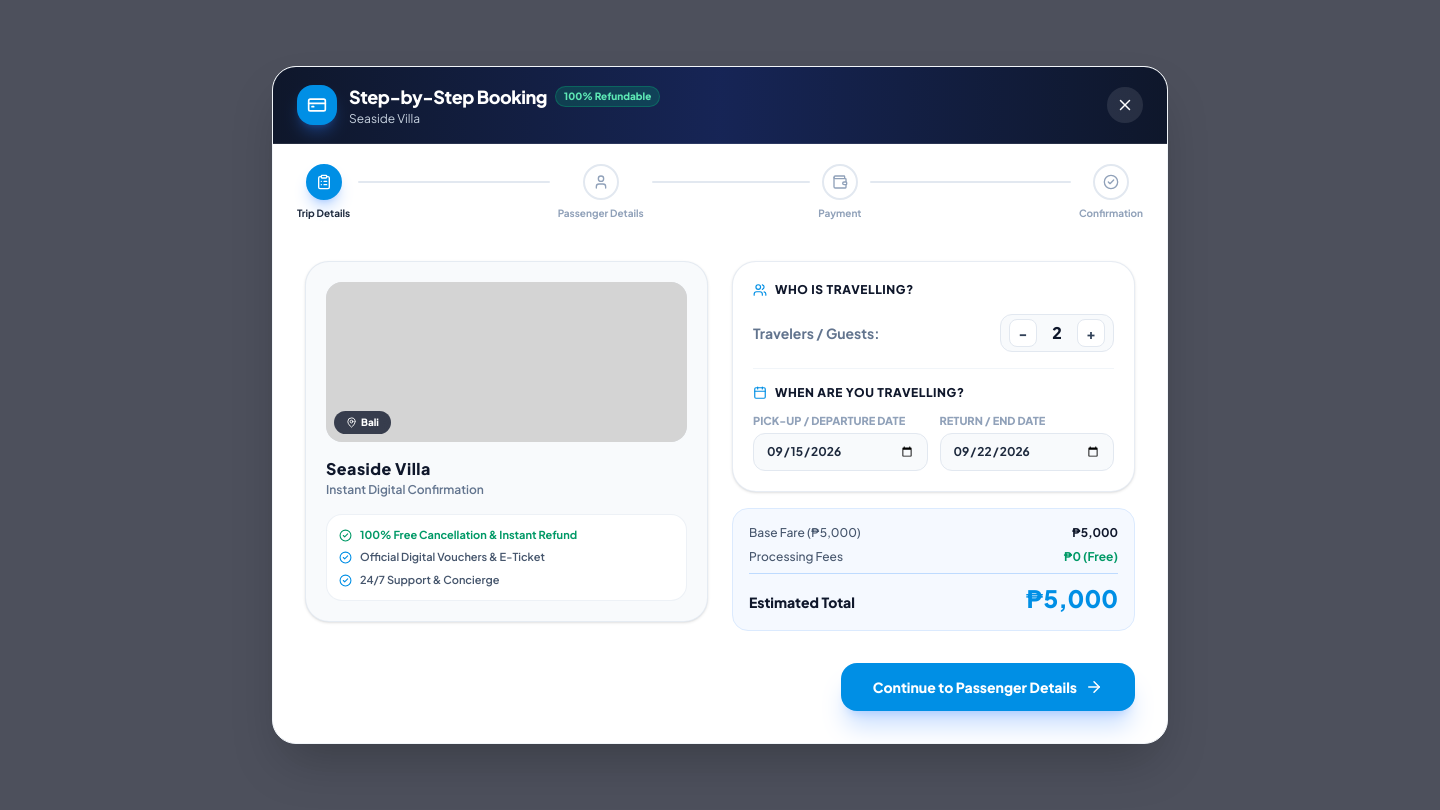
Test case: BookingCheckoutModal promo application › shows the server rejection message and applies no discount
The image size is (1440, 810).
Click the button "Continue to Passenger Details" at [988, 687], box [841,663,1135,711]
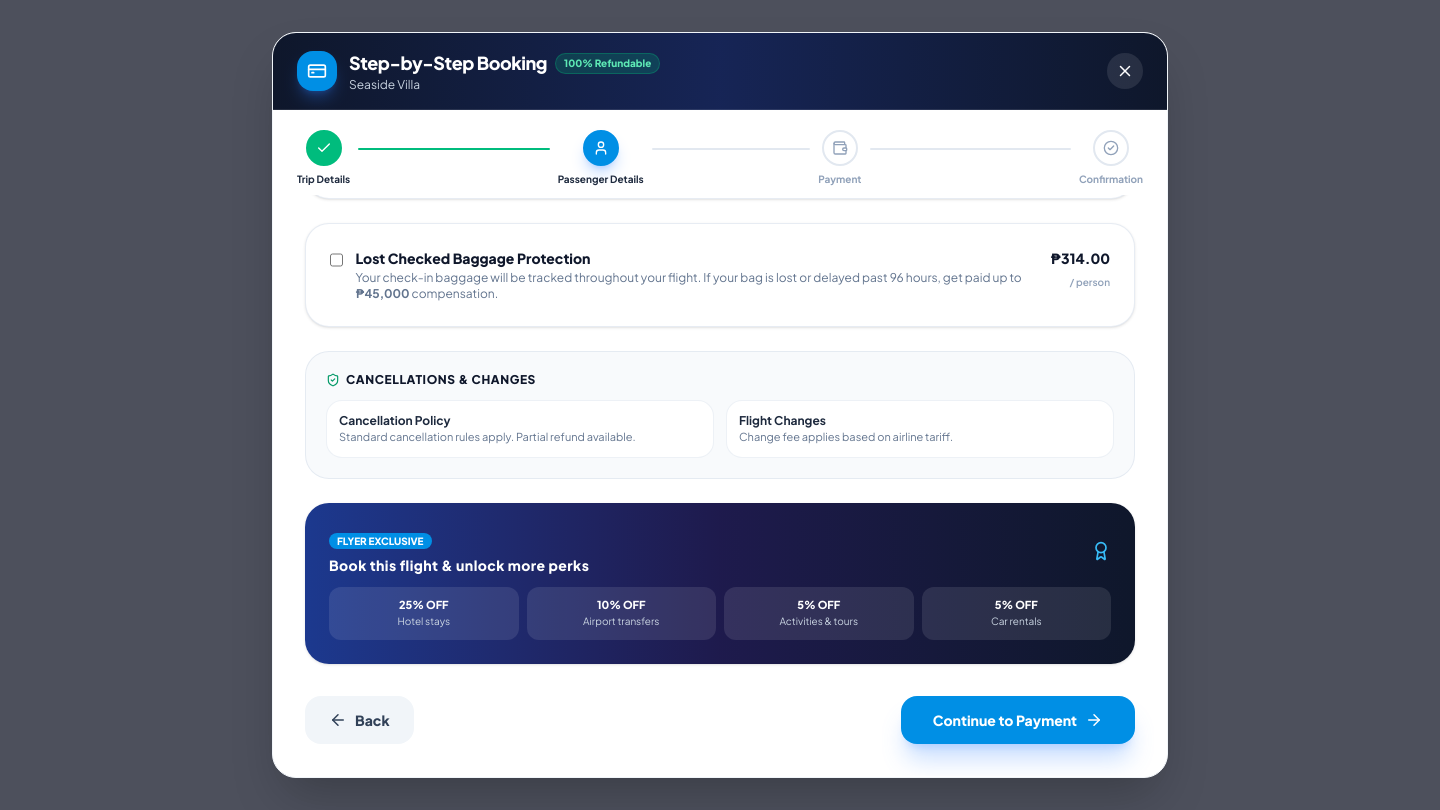
Click the button "Continue to Payment" at [1018, 720], box [901,696,1135,744]
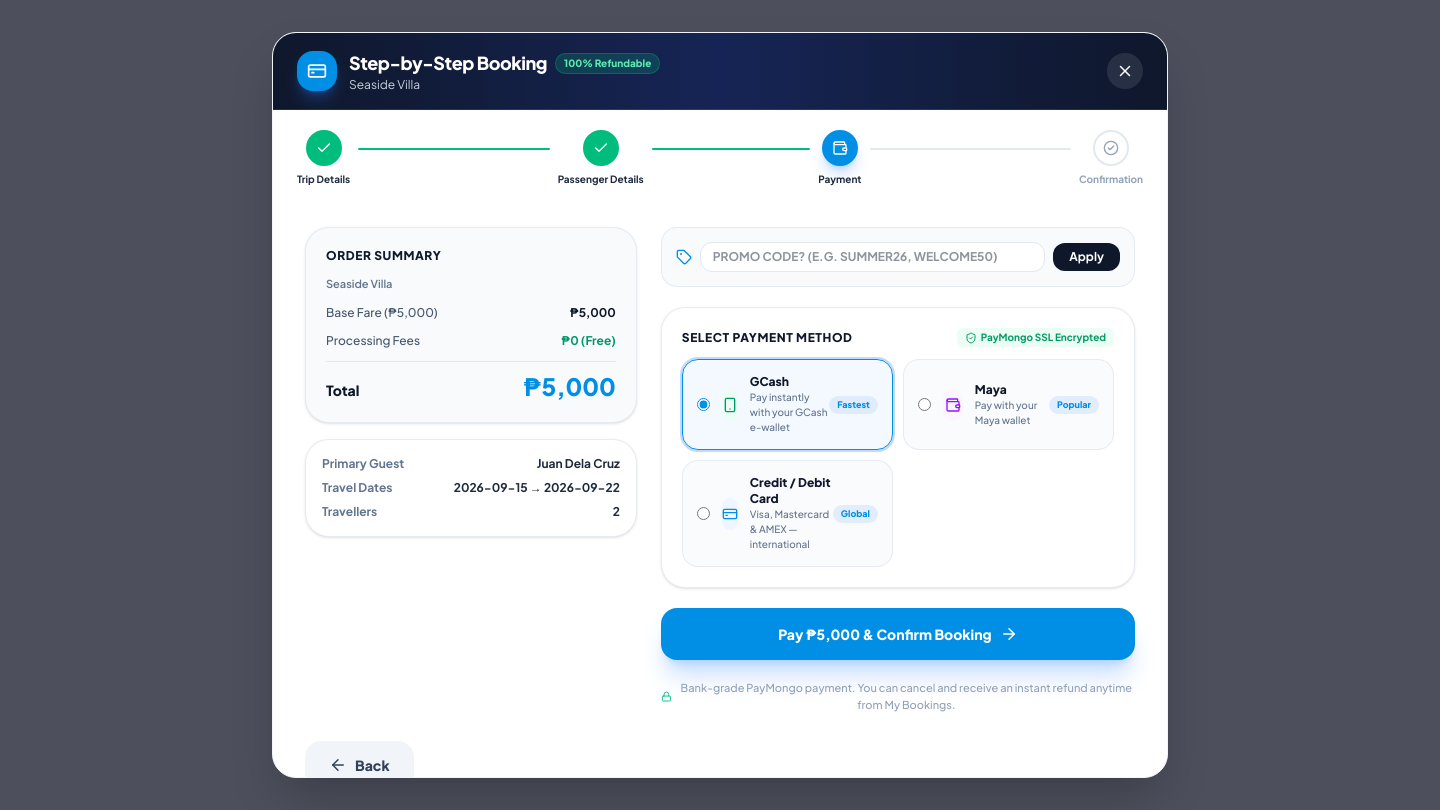
Type "STALE" into the field with placeholder "Promo code? (e.g. SUMMER26, WELCOME50)" at [872, 257], box [700,242,1045,272]
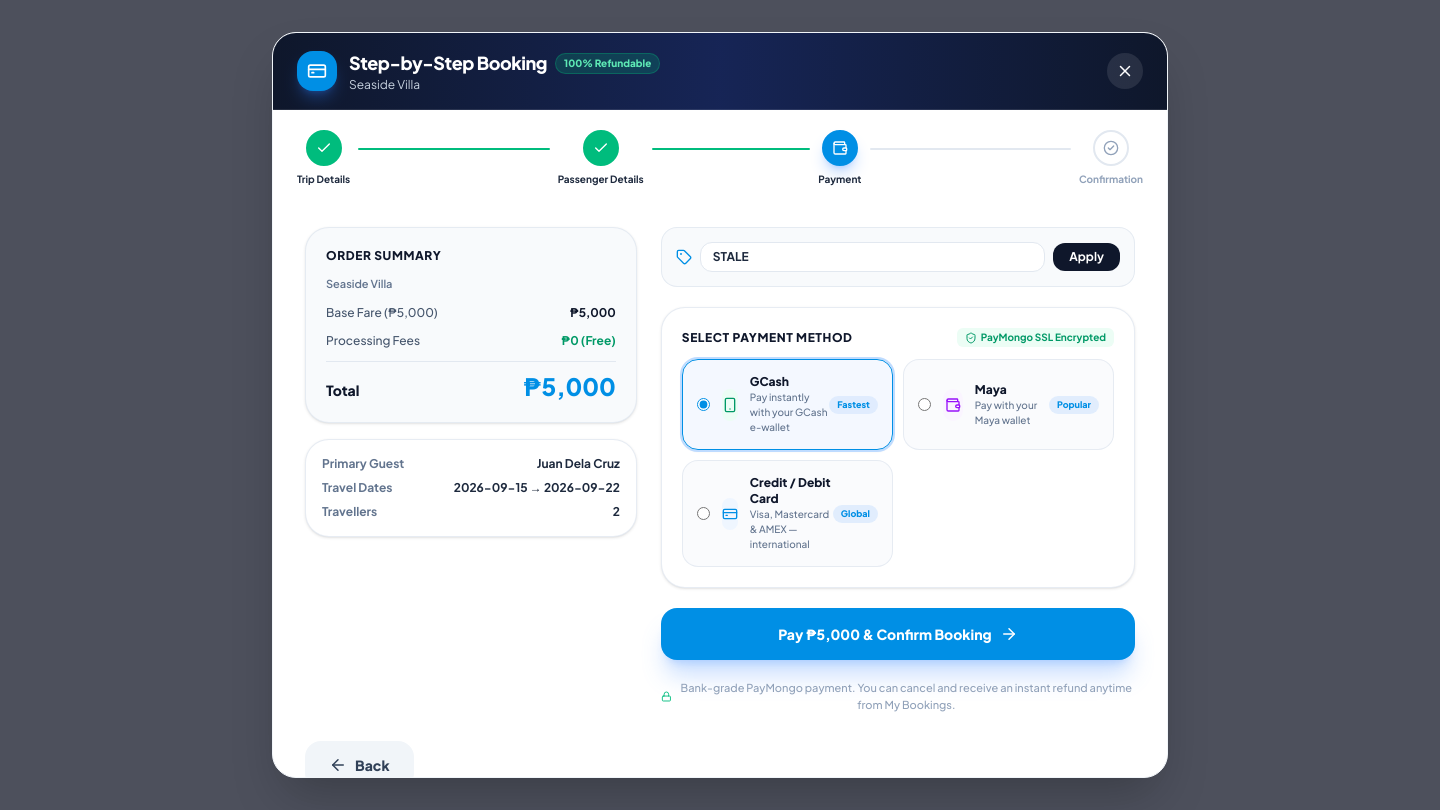
Click the button "Apply" at [1087, 257], box [1053,243,1120,271]
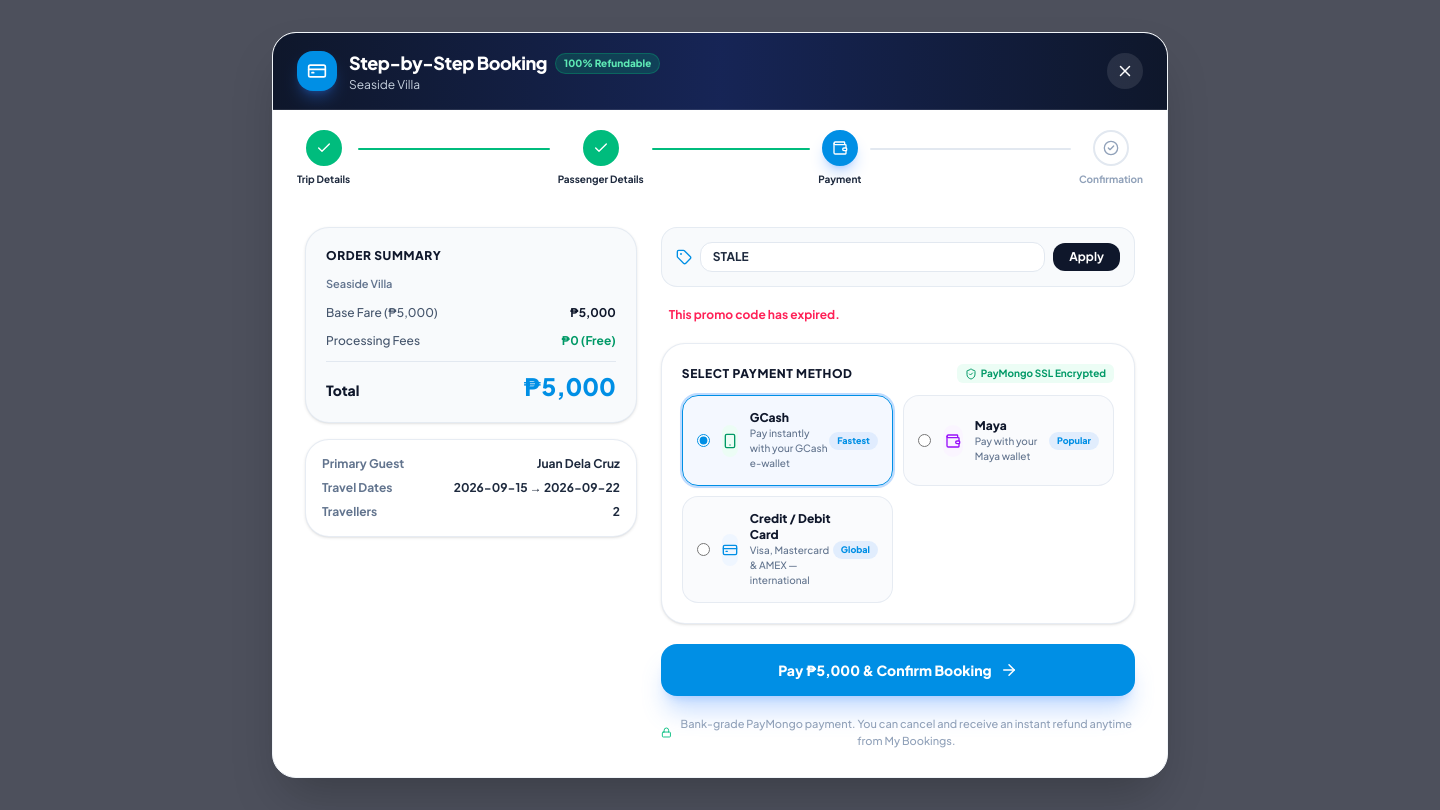
Expected: the text "This promo code has expired." is shown, [669,307,840,322]
